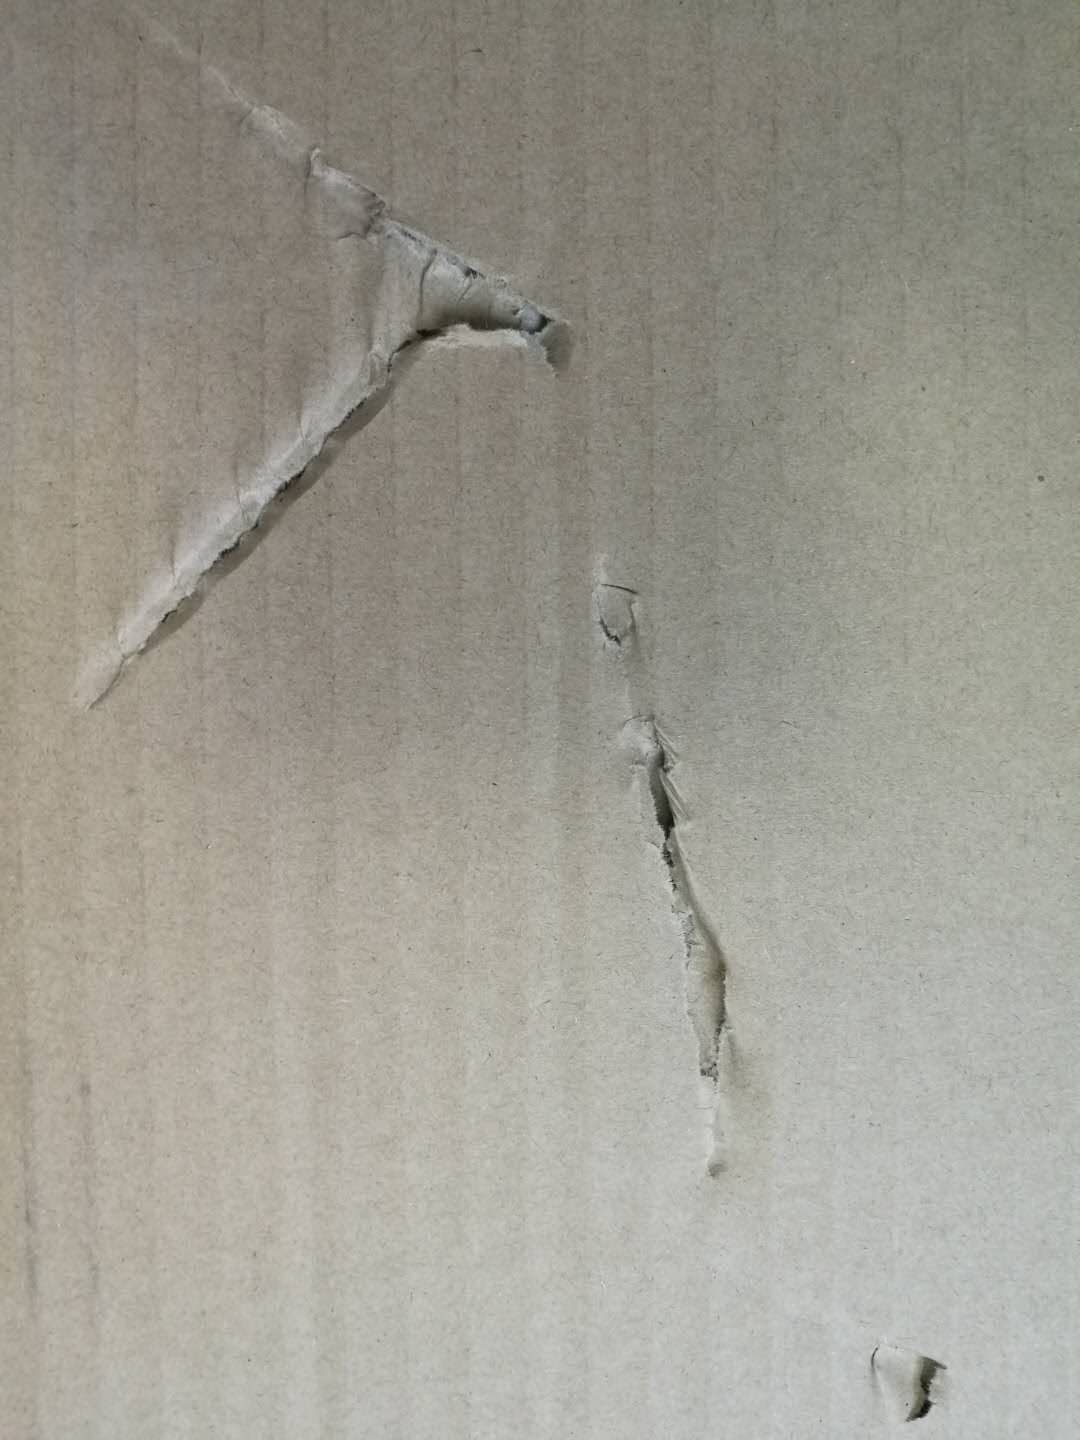defect: (35, 5, 602, 742), (548, 556, 805, 1198), (832, 1301, 979, 1439)
